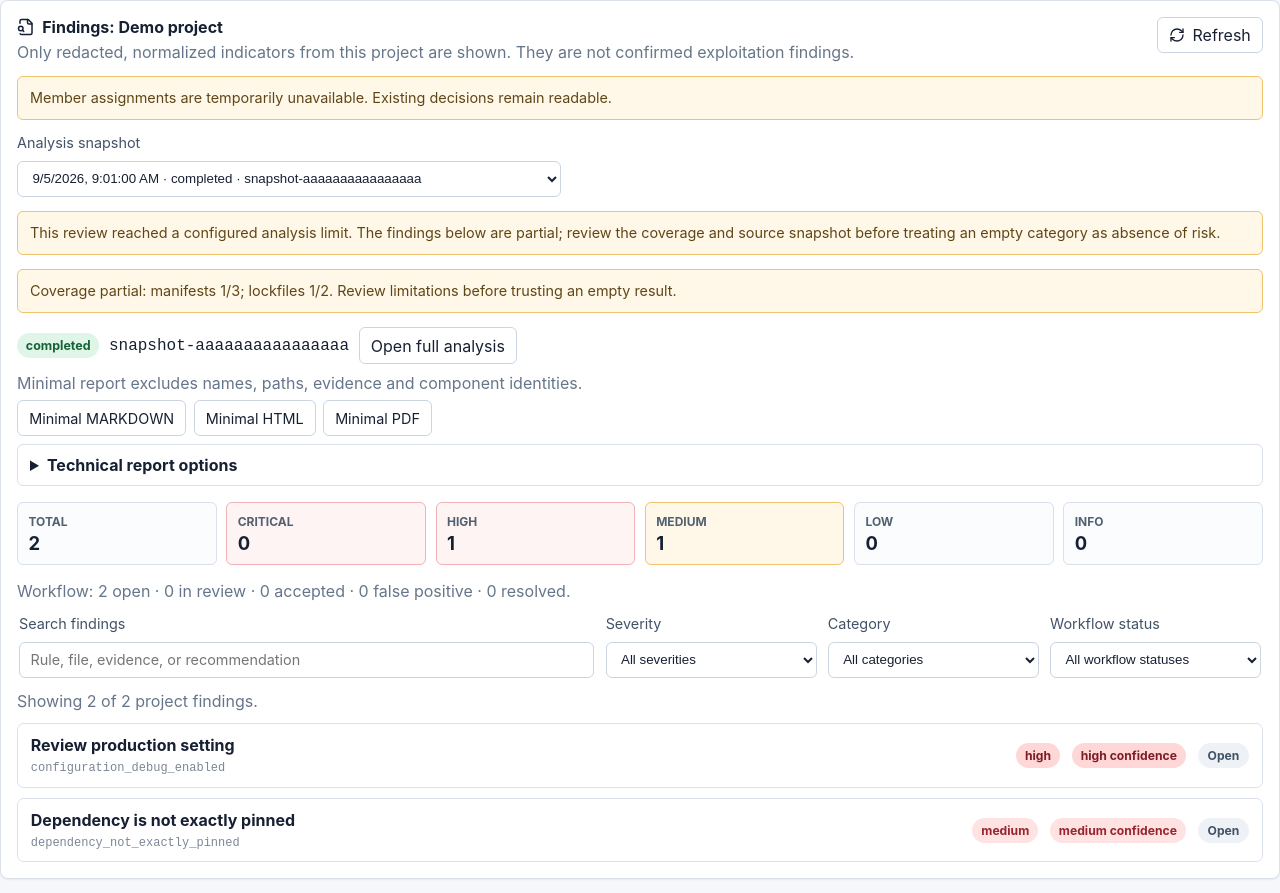
Scenario: ProjectFindingsPanel › does not offer a technical report action to a team reader
The width and height of the screenshot is (1280, 893).
Expected: the text "Minimal report excludes" is shown, [17, 373, 582, 393]
Step 1. Click the heading "Technical report options" → (142, 465), box [47, 455, 237, 475]
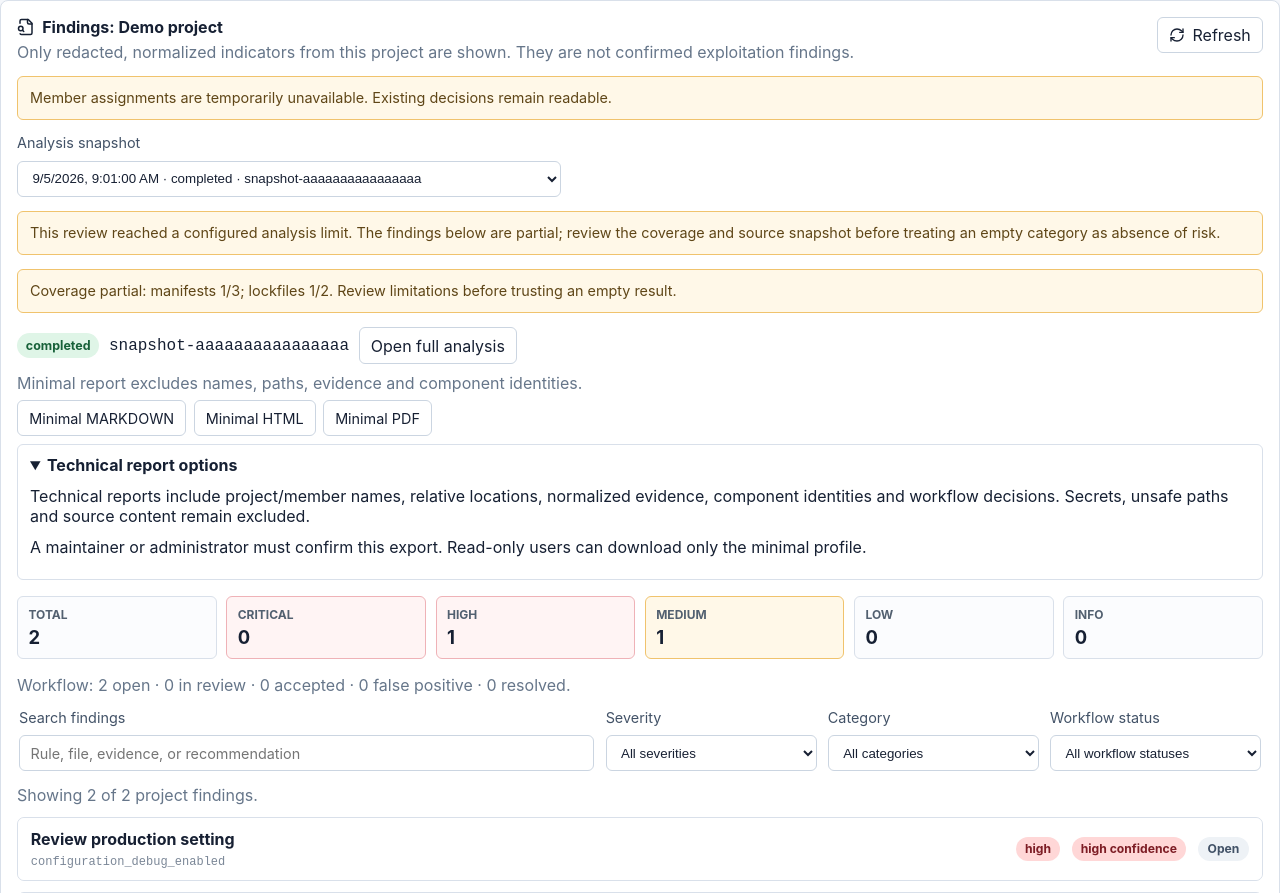
Expected: the link "Minimal PDF" is shown, [323, 400, 432, 436]
Expected: the text "A maintainer or administrator must confirm this export" is shown, [30, 537, 866, 557]
